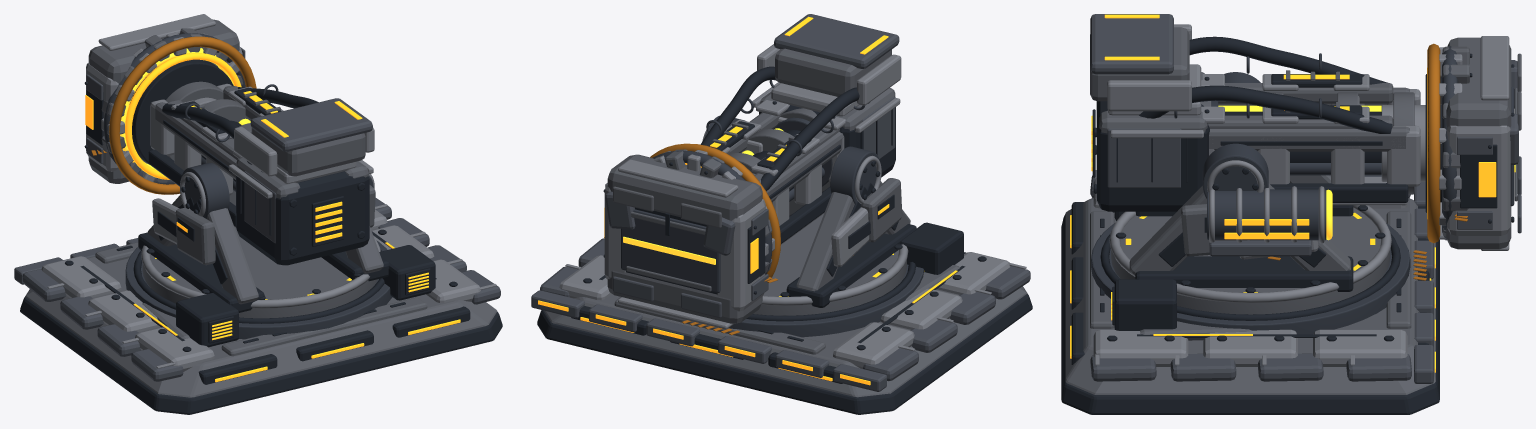
Rendered from rara.glb.
The picture shows the model from 3 angles, left to right: view 1: azimuth 30°, elevation 25°; view 2: azimuth 150°, elevation 25°; view 3: azimuth 270°, elevation 25°; orthographic projection. The views are drawn at different scales.
Visible parts, largest first — view 1: BaseFixed_Surface, ArmPitch_Surface, TurretYaw_Surface, PistonRecoil_Surface; view 2: BaseFixed_Surface, PistonRecoil_Surface, ArmPitch_Surface, TurretYaw_Surface; view 3: ArmPitch_Surface, BaseFixed_Surface, TurretYaw_Surface, PistonRecoil_Surface.
Part boxes in pixels (box(x1,y1,x2,y2)): BaseFixed_Surface: box(14, 197, 502, 414); ArmPitch_Surface: box(148, 81, 374, 265); TurretYaw_Surface: box(138, 163, 389, 318); PistonRecoil_Surface: box(84, 14, 256, 194); BaseFixed_Surface: box(531, 222, 1032, 414); PistonRecoil_Surface: box(603, 143, 780, 329); ArmPitch_Surface: box(700, 14, 901, 244); TurretYaw_Surface: box(702, 115, 916, 315); ArmPitch_Surface: box(1090, 14, 1420, 256); BaseFixed_Surface: box(1061, 170, 1439, 414); TurretYaw_Surface: box(1109, 72, 1391, 314); PistonRecoil_Surface: box(1381, 36, 1521, 250).
Bounding box in the file's own units: 3.79 × 2.47 × 3.69.
